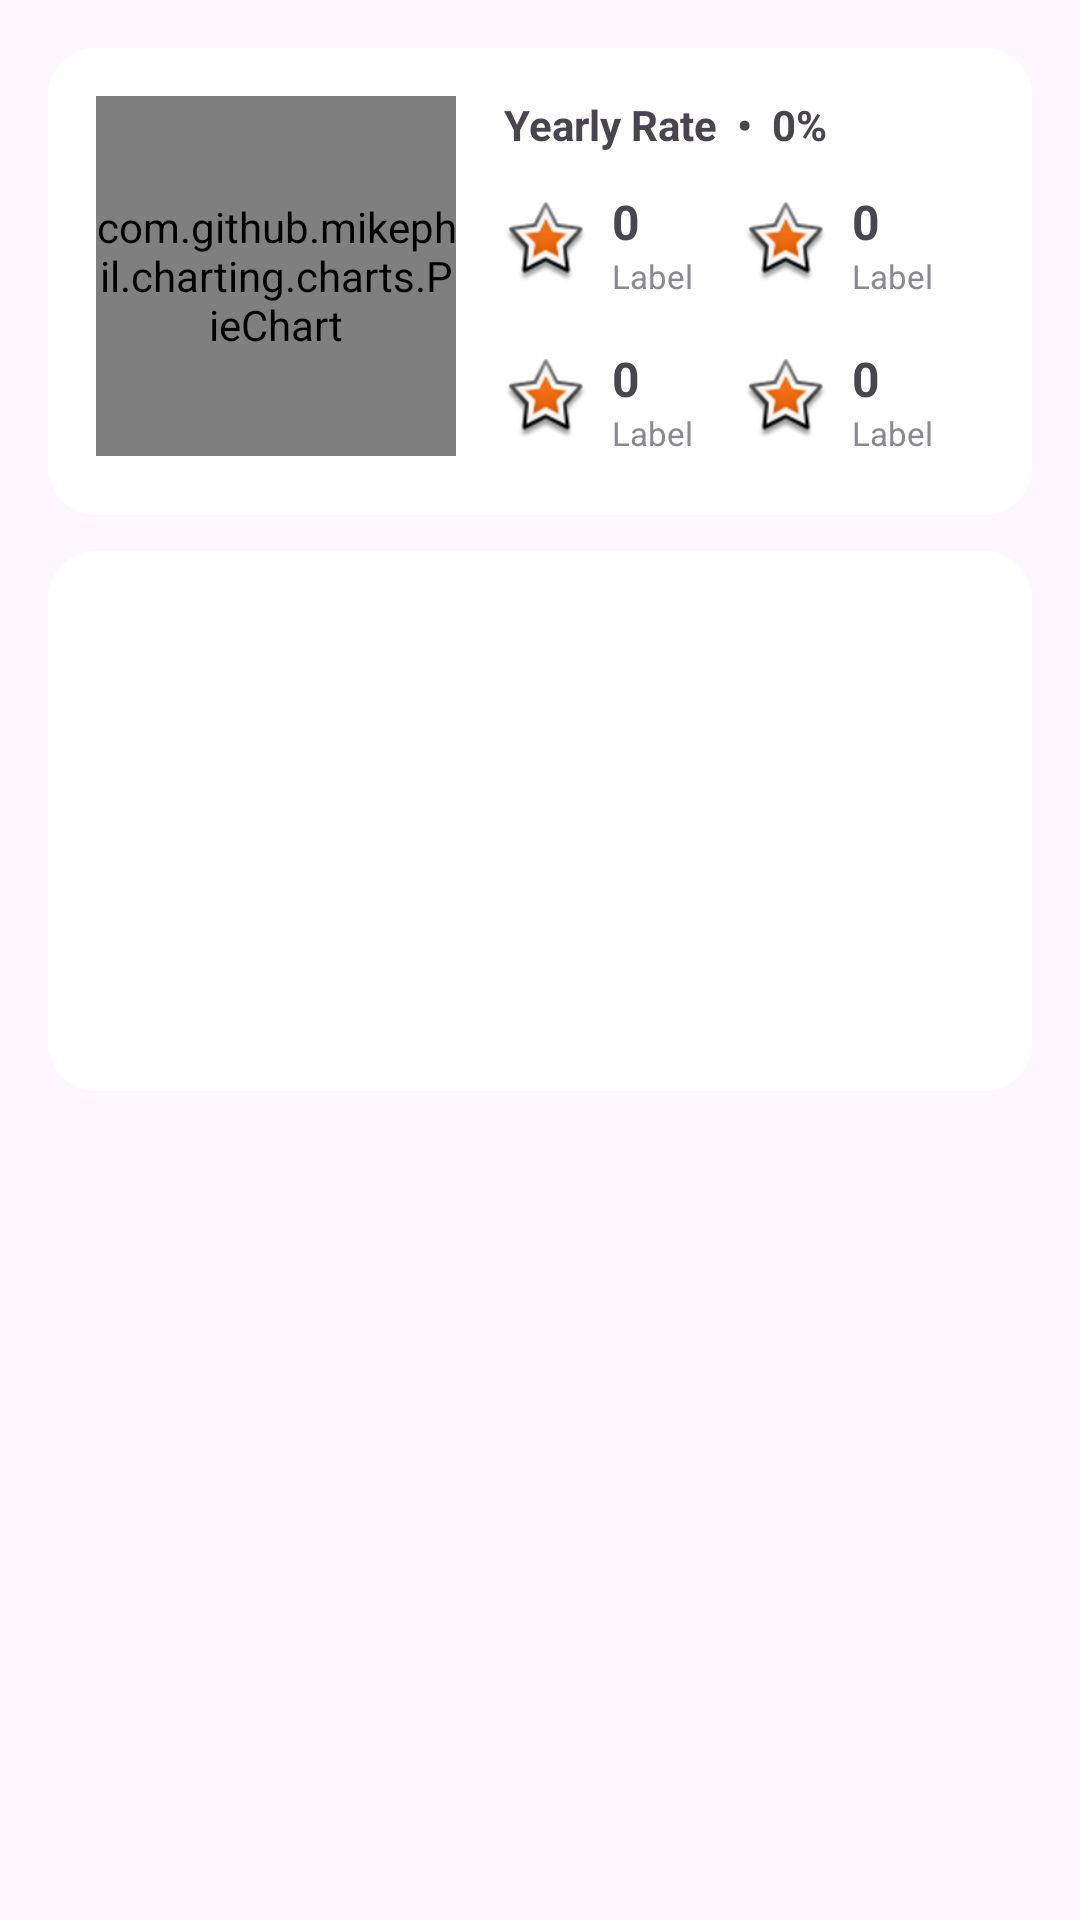

Screen size 1080 × 1920. Icon name, then its center in pixels as [x,y]:
star on: [546,240], [786,240], [546,397], [786,397]
